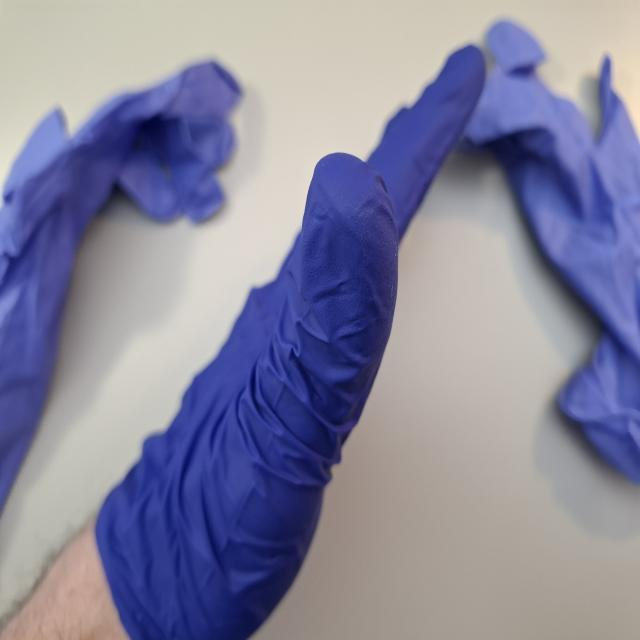glove_on: (91, 37, 489, 640)
